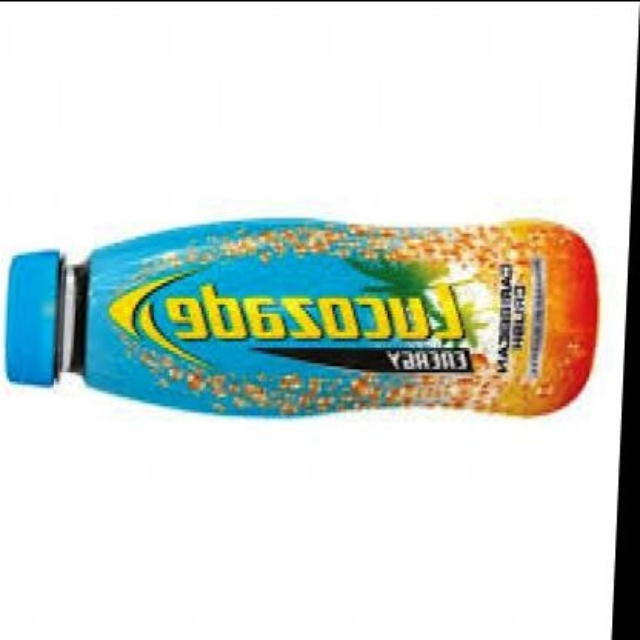trash: (85, 218, 597, 414)
